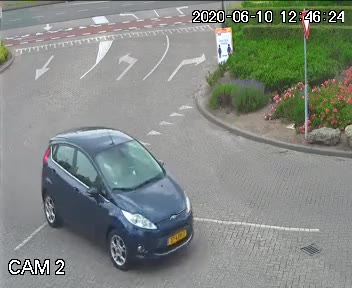car: (33, 121, 198, 270)
